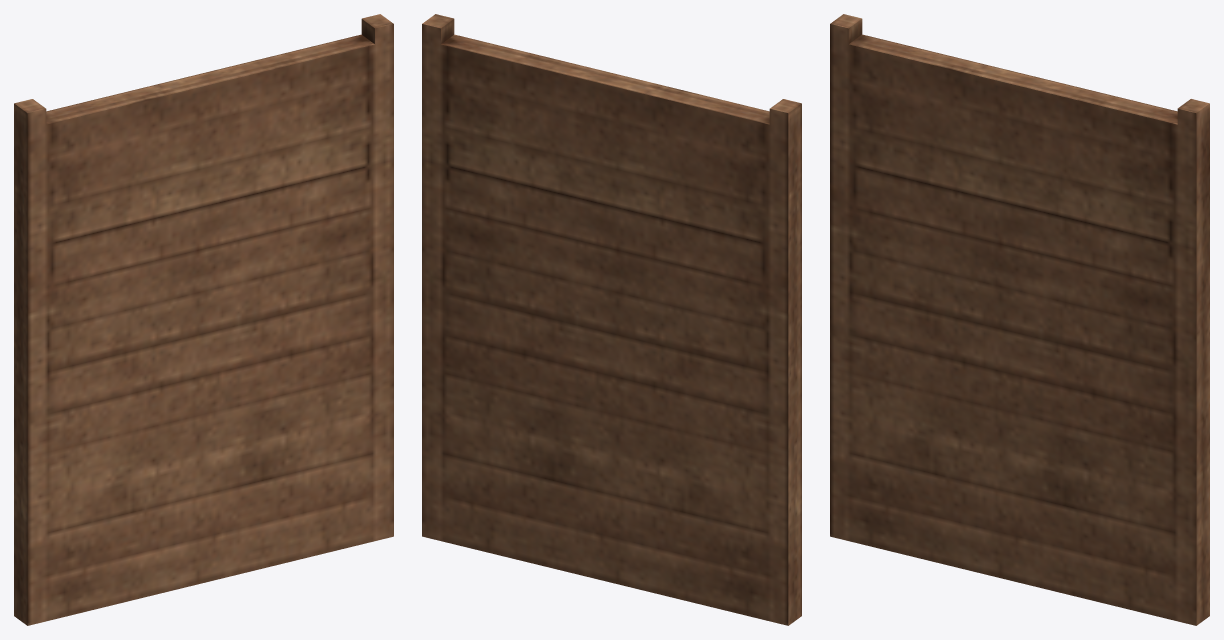
Rendered from rome_wall_1.fbx.
The picture shows the model from 3 angles, left to right: view 1: azimuth 30°, elevation 25°; view 2: azimuth 150°, elevation 25°; view 3: azimuth 330°, elevation 25°; orthographic projection.
Visible parts, largest first — view 1: rome_wall_1; view 2: rome_wall_1; view 3: rome_wall_1.
Boxes of the visible parts, x1,y1,x2,y2 form: rome_wall_1: (14, 14, 393, 625); rome_wall_1: (422, 14, 801, 625); rome_wall_1: (830, 14, 1209, 625).
Bounding box in the file's own units: 12.77 × 267 × 200.
